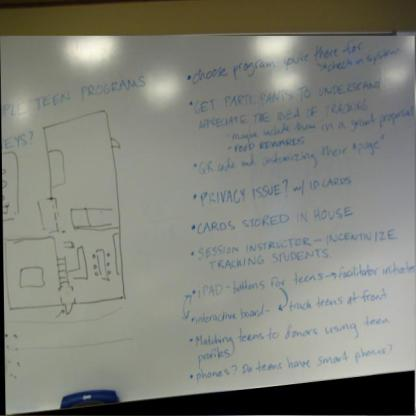Handwritten text: (186, 31, 369, 89), (0, 64, 159, 125), (192, 341, 388, 387), (187, 73, 386, 118), (195, 136, 382, 180), (190, 310, 395, 348), (192, 93, 376, 134), (196, 166, 356, 213), (194, 225, 400, 260), (194, 201, 357, 239), (194, 262, 326, 304), (281, 282, 392, 320), (203, 245, 334, 275), (322, 41, 407, 77), (189, 298, 270, 328), (226, 132, 309, 155), (189, 341, 237, 369), (2, 129, 29, 152)
Whiteboard: (1, 29, 416, 416)
